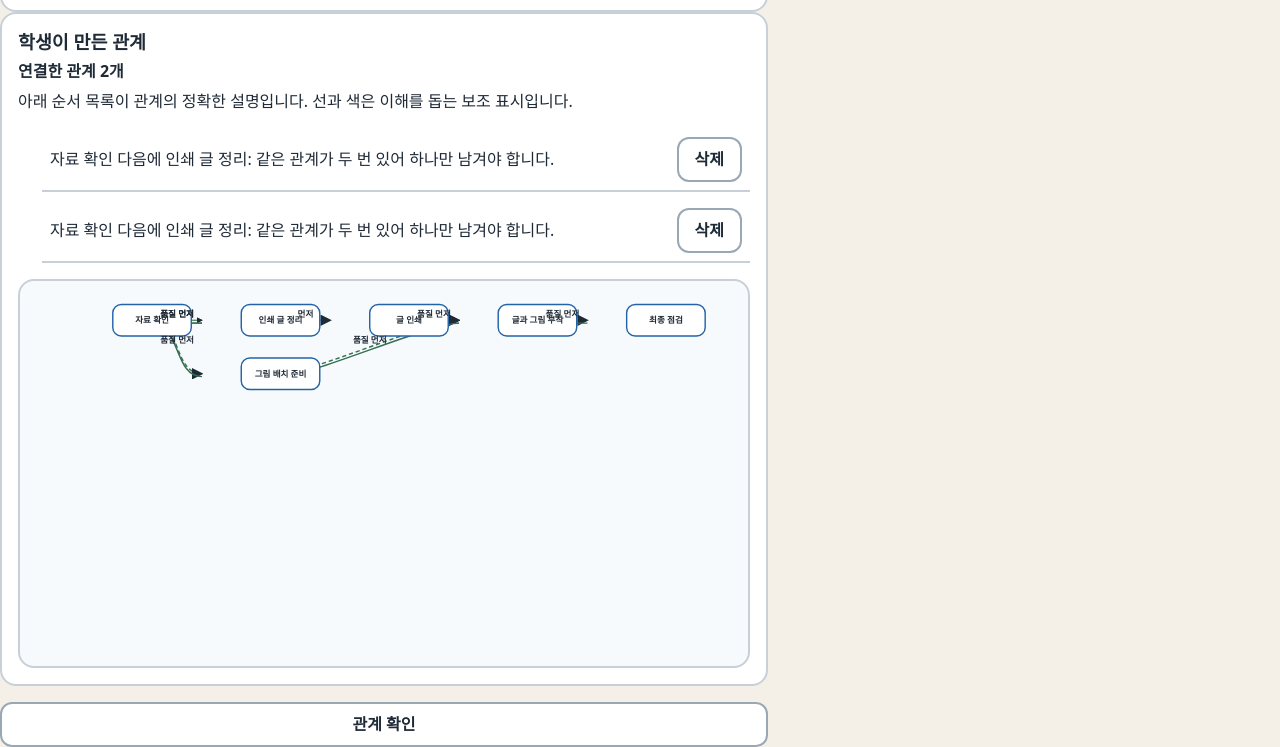
accessible relationship design › describes duplicate invalid rows without safe extra wording
This screenshot has width=1280, height=747.
(page scrolled)
Click the button "관계 확인".
click(384, 725)  # box left=0, top=702, right=768, bottom=746
(page scrolled)
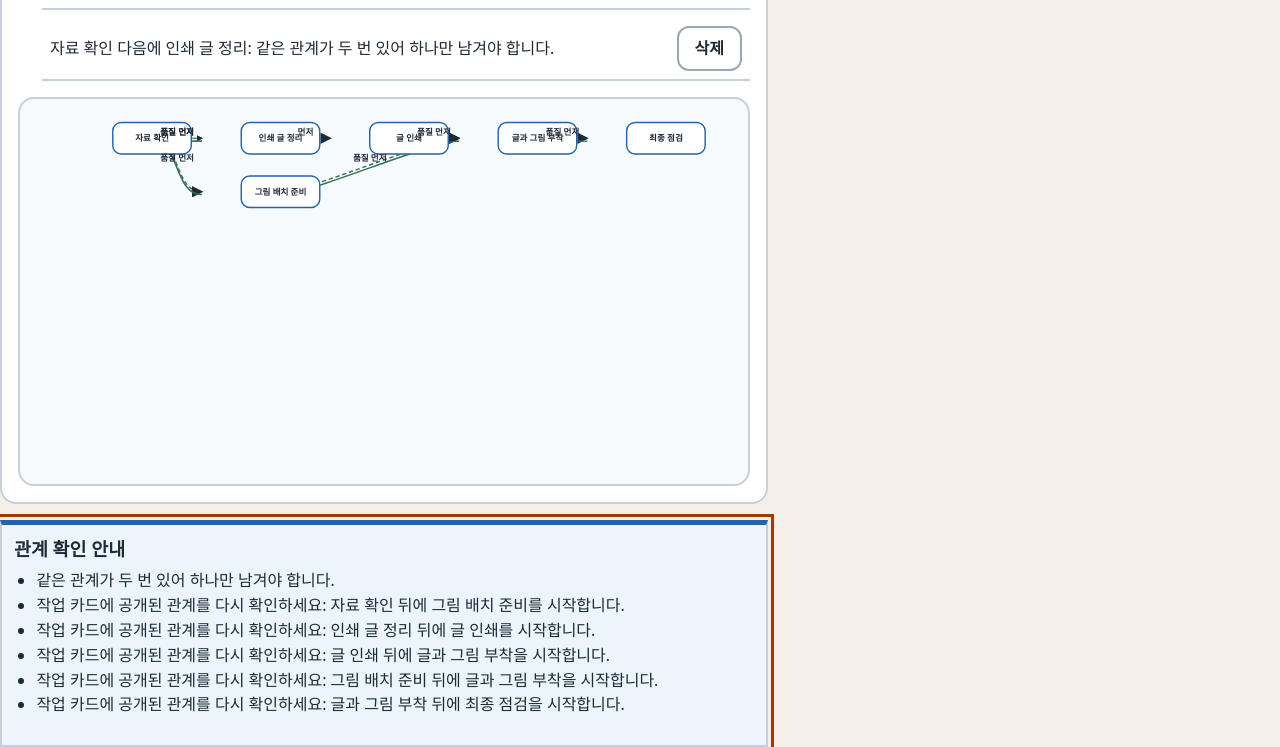
Now the message shows "같은 관계가 두 번 있어 하나만 남겨야 합니다.", box left=36, top=569, right=335, bottom=591
